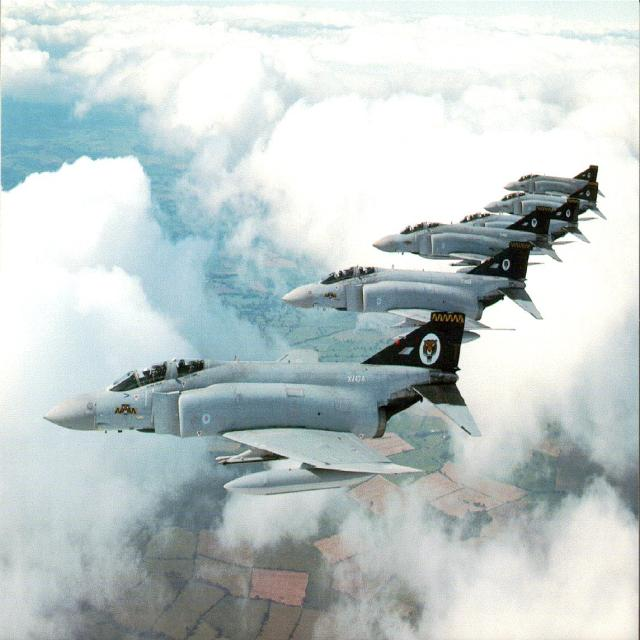MIL_Plane: (41, 311, 483, 497), (280, 240, 544, 341), (372, 204, 564, 265), (452, 198, 590, 244), (483, 182, 608, 220), (503, 164, 606, 198)
